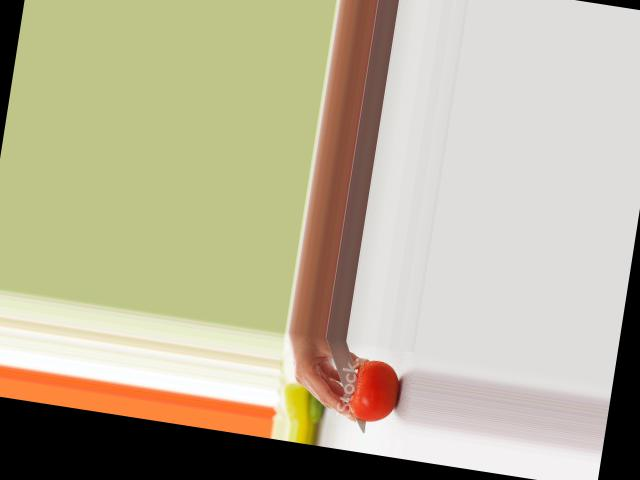tomato: (347, 356, 404, 425)
